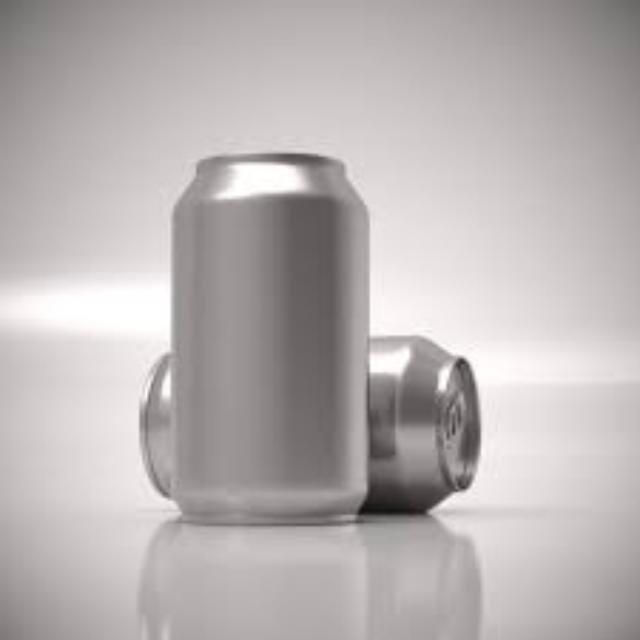metal: (137, 151, 475, 518)
